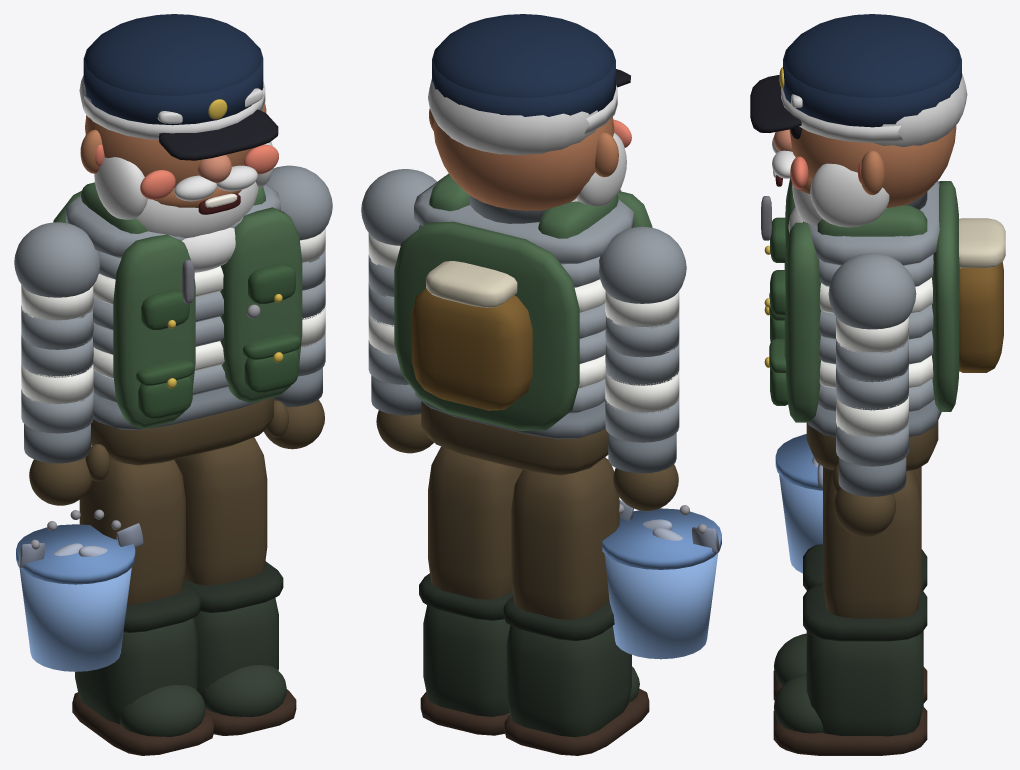
Rendered from angler2.glb.
3 views of the same model, side by side, from view 1: azimuth 30°, elevation 25°; view 2: azimuth 150°, elevation 25°; view 3: azimuth 270°, elevation 25° (orthographic). The views are drawn at different scales.
Parts seen in each view (by area): view 1: body_4a6a4a, head_1f2f4a, armL_8f979f, legR_5a4a32, legL_2f3a2f, legL_5a4a32, legR_2f3a2f, head_e4e4e4, armL_8fb4e8, body_3a5a3a, body_8f979f, body_5a4a32 (+20 smaller); view 2: body_4a6a4a, head_1f2f4a, legL_5a4a32, armL_8f979f, body_7a5a2a, legR_5a4a32, legL_2f3a2f, head_b87a56, armL_8fb4e8, legR_2f3a2f, body_8f979f, body_5a4a32 (+18 smaller); view 3: head_1f2f4a, body_4a6a4a, legR_2f3a2f, armR_8f979f, legR_5a4a32, body_8f979f, head_b87a56, head_e4e4e4, body_7a5a2a, head_d8d8d8, armR_f2f2ee, legR_232b23 (+15 smaller).
Boxes of the visible parts, bbox=[...] form: body_4a6a4a: bbox=[53, 182, 302, 429]; head_1f2f4a: bbox=[83, 14, 263, 125]; armL_8f979f: bbox=[14, 222, 99, 433]; legR_5a4a32: bbox=[175, 437, 267, 585]; legL_2f3a2f: bbox=[75, 617, 205, 736]; legL_5a4a32: bbox=[79, 459, 185, 605]; legR_2f3a2f: bbox=[194, 598, 286, 717]; head_e4e4e4: bbox=[94, 141, 272, 272]; armL_8fb4e8: bbox=[19, 567, 131, 671]; body_3a5a3a: bbox=[136, 263, 300, 418]; body_8f979f: bbox=[66, 184, 280, 402]; body_5a4a32: bbox=[91, 397, 273, 465]; body_4a6a4a: bbox=[394, 173, 652, 430]; head_1f2f4a: bbox=[432, 14, 615, 116]; legL_5a4a32: bbox=[511, 457, 619, 619]; armL_8f979f: bbox=[599, 226, 686, 442]; body_7a5a2a: bbox=[411, 288, 532, 410]; legR_5a4a32: bbox=[428, 446, 522, 599]; legL_2f3a2f: bbox=[506, 625, 639, 737]; head_b87a56: bbox=[429, 108, 618, 210]; armL_8fb4e8: bbox=[604, 553, 717, 659]; legR_2f3a2f: bbox=[423, 605, 510, 716]; body_8f979f: bbox=[414, 176, 633, 413]; body_5a4a32: bbox=[421, 401, 608, 475]; head_1f2f4a: bbox=[783, 14, 961, 127]; body_4a6a4a: bbox=[784, 178, 959, 422]; legR_2f3a2f: bbox=[774, 632, 923, 736]; armR_8f979f: bbox=[828, 253, 916, 466]; legR_5a4a32: bbox=[823, 470, 921, 618]; body_8f979f: bbox=[803, 180, 939, 411]; head_b87a56: bbox=[789, 125, 956, 207]; head_e4e4e4: bbox=[772, 137, 889, 233]; body_7a5a2a: bbox=[959, 262, 1003, 372]; head_d8d8d8: bbox=[781, 73, 967, 146]; armR_f2f2ee: bbox=[836, 316, 908, 438]; legR_232b23: bbox=[803, 582, 927, 641].
Bounding box in the file's own units: 1.04 × 2.07 × 0.6995.
